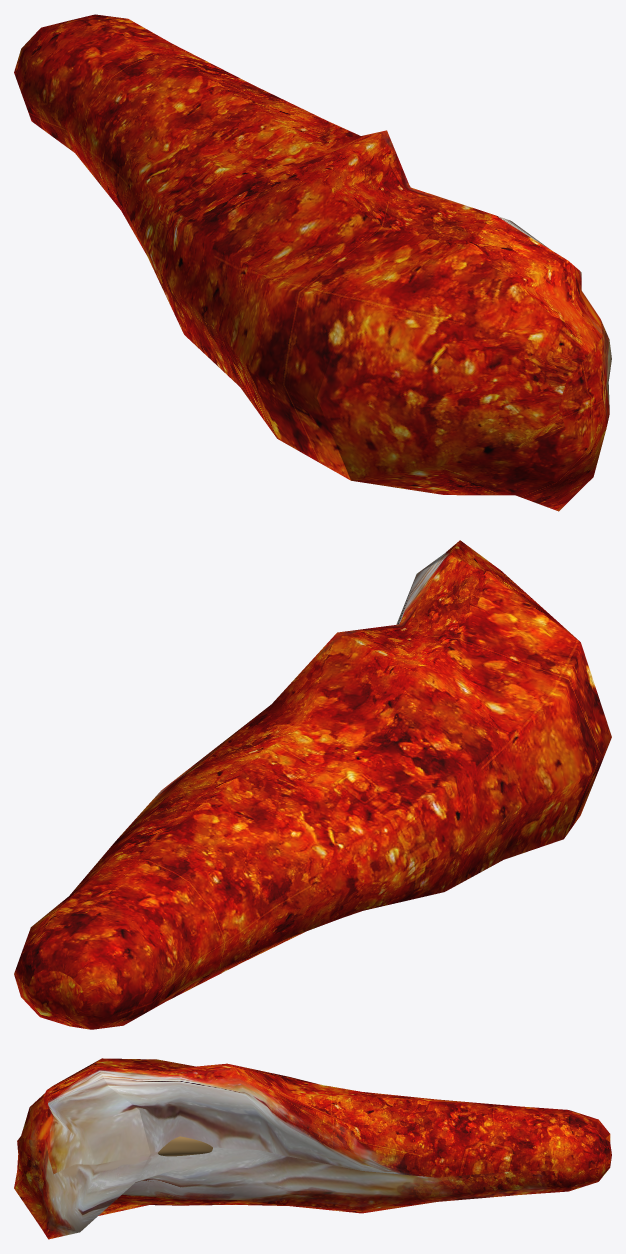
Rendered from friedChicken_Red_eat01.FBX.
The picture shows the model from 3 angles, top to bottom: view 1: azimuth 30°, elevation 25°; view 2: azimuth 150°, elevation 25°; view 3: azimuth 270°, elevation 25°; orthographic projection. The views are drawn at different scales.
Visible parts, largest first — view 1: Chicken_red; view 2: Chicken_red; view 3: Chicken_red, bone.
Part boxes in pixels (bbox=[...]): Chicken_red: bbox=[14, 14, 611, 511]; Chicken_red: bbox=[14, 540, 611, 1029]; Chicken_red: bbox=[14, 1058, 611, 1239]; bone: bbox=[158, 1136, 212, 1156].
Bounding box in the file's own units: 11.17 × 10.48 × 34.28.
2 materials, 1 textured.
